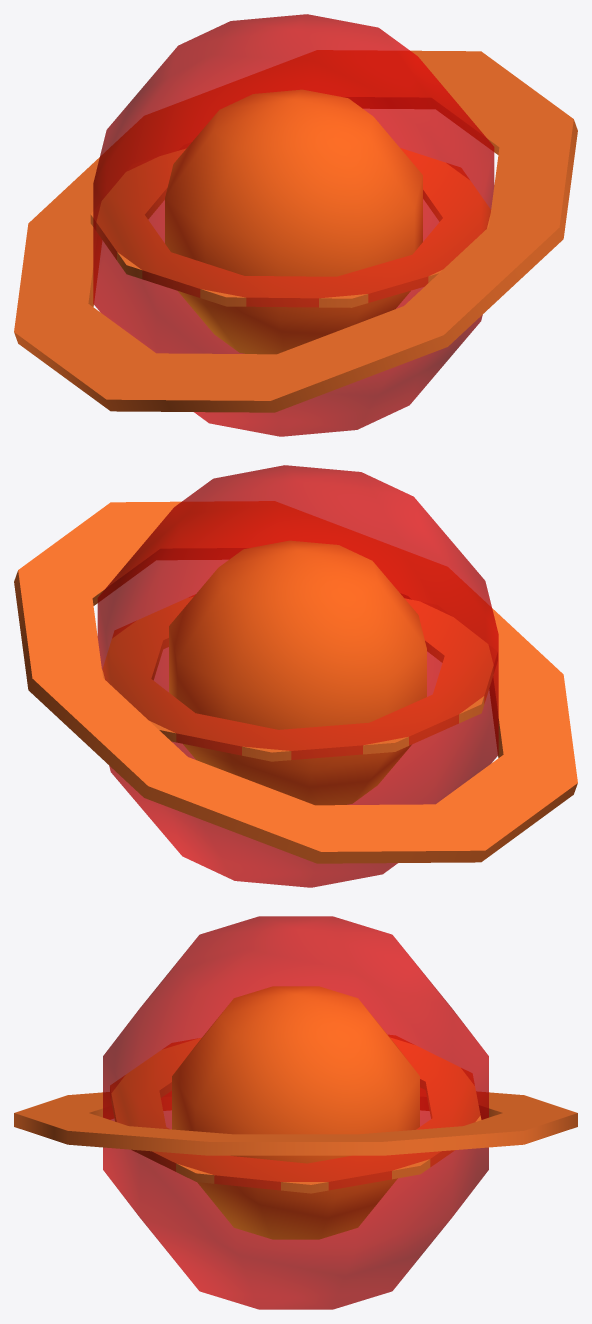
Rendered from Enemy_Attack5.obj.
3 renders of one model, top to bottom at view 1: azimuth 30°, elevation 25°; view 2: azimuth 150°, elevation 25°; view 3: azimuth 270°, elevation 25°, orthographic. The views are drawn at different scales.
Visible parts, largest first — view 1: Sphere002, Tube001, Sphere001, Tube002; view 2: Sphere002, Tube001, Sphere001, Tube002; view 3: Sphere002, Sphere001, Tube001, Tube002.
Boxes of the visible parts, box(x1,y1,x2,y2) form: Sphere002: box(93, 14, 494, 436); Tube001: box(14, 50, 577, 412); Sphere001: box(165, 89, 422, 354); Tube002: box(90, 148, 490, 307); Sphere002: box(97, 465, 498, 887); Tube001: box(14, 501, 577, 863); Sphere001: box(169, 540, 426, 805); Tube002: box(102, 595, 497, 761); Sphere002: box(103, 916, 488, 1309); Sphere001: box(172, 986, 419, 1239); Tube001: box(14, 1088, 577, 1155); Tube002: box(110, 1035, 481, 1193).
Size of the model in its own units: 28.82 by 22.83 by 31.73.
